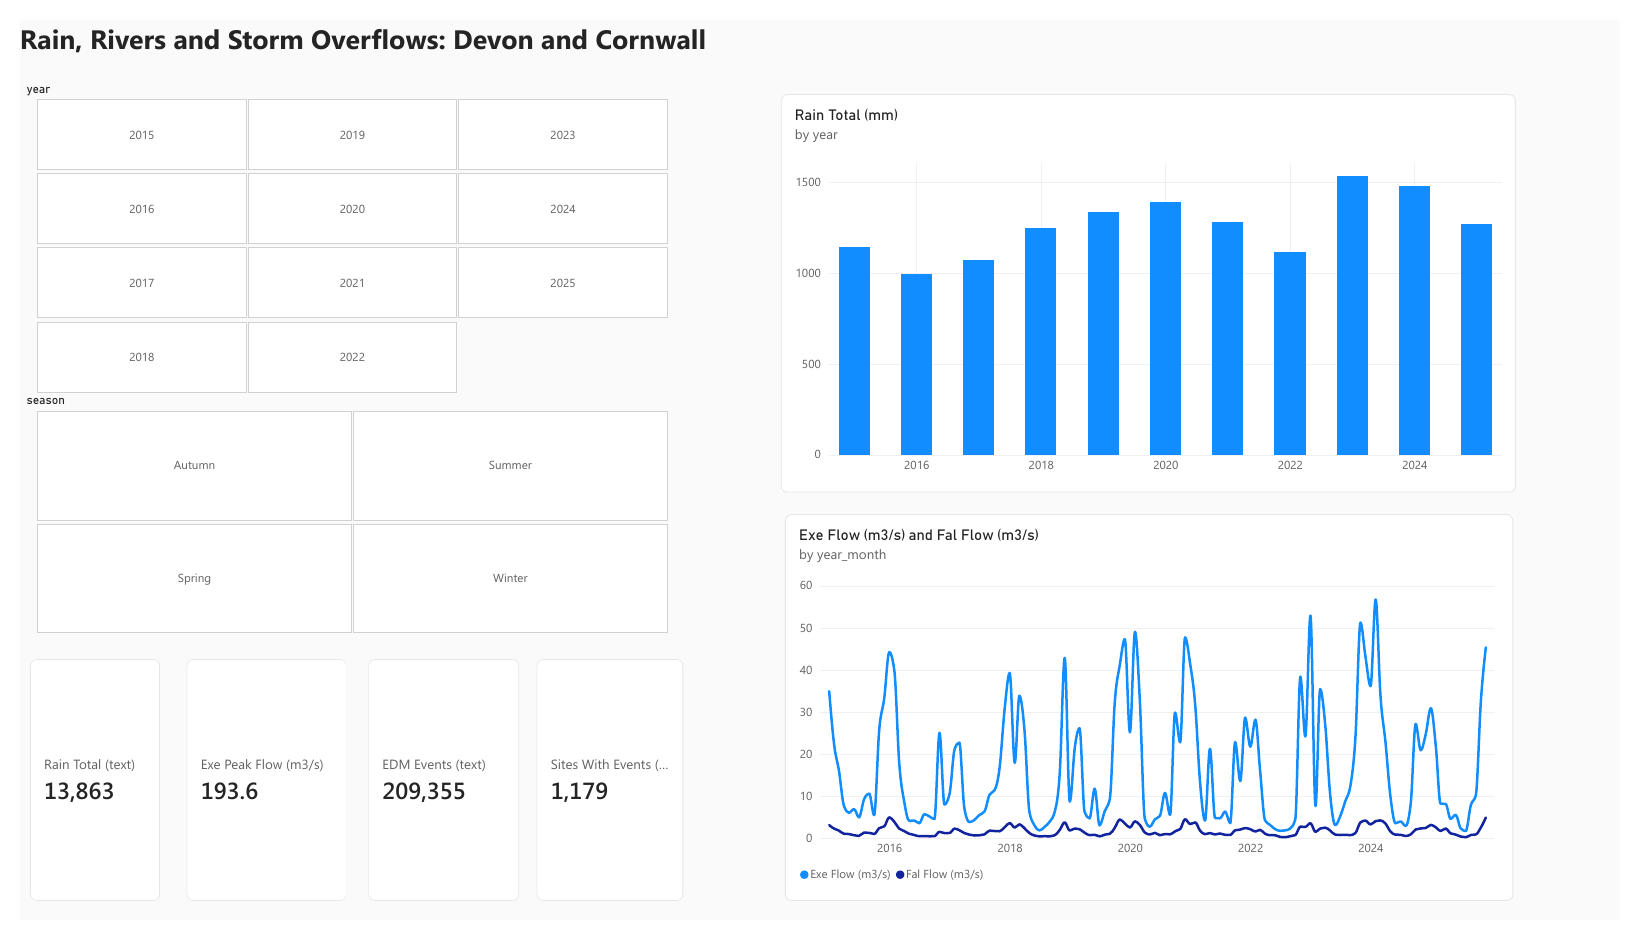

The dashboard page shown, as its layout file describes it:
{"tool":"powerbi","page":{"name":"Overview","canvas":[1920,1080],"ordinal":0},"visuals":[{"type":"clusteredColumnChart","fields":{"Category":["dim_date.year"],"Y":["_Measures.Rain Total (mm)"]},"box":[912.9,89.1,882.1,477.9],"z":0},{"type":"slicer","fields":{"Values":["dim_date.year"]},"box":[0,75.4,796.4,373.4],"z":1000},{"type":"slicer","fields":{"Values":["dim_date.season"]},"box":[0,448.7,796.4,289.5],"z":2000},{"type":"cardVisual","fields":{"Data":["_Measures.Rain Total (text)"]},"box":[12,767.3,155.9,289.5],"z":3000},{"type":"cardVisual","fields":{"Data":["_Measures.Exe Peak Flow (m3/s)"]},"box":[200.4,767.3,191.8,289.5],"z":4000},{"type":"cardVisual","fields":{"Data":["_Measures.EDM Events (text)"]},"box":[417.9,767.3,181.6,289.5],"z":5000},{"type":"cardVisual","fields":{"Data":["_Measures.Sites With Events (text)"]},"box":[620,767.3,176.4,289.5],"z":6000},{"type":"lineChart","fields":{"Category":["dim_date.year_month"],"Y":["_Measures.Exe Flow (m3/s)","_Measures.Fal Flow (m3/s)"]},"box":[918,592.6,873.5,464.2],"z":7000},{"type":"textbox","box":[0,0,947.3,76],"z":8000}]}

Visuals, with their boxes in screenshot pixels (x1, y1, x2, y2), scaled from the page's 1920x1080 canvas onto the 1640x940 screenshot:
clusteredColumnChart - dim_date.year x _Measures.Rain Total (mm): region(780, 78, 1533, 494)
slicer - dim_date.year: region(0, 66, 680, 391)
slicer - dim_date.season: region(0, 391, 680, 643)
cardVisual - _Measures.Rain Total (text): region(10, 668, 143, 920)
cardVisual - _Measures.Exe Peak Flow (m3/s): region(171, 668, 335, 920)
cardVisual - _Measures.EDM Events (text): region(357, 668, 512, 920)
cardVisual - _Measures.Sites With Events (text): region(530, 668, 680, 920)
lineChart - dim_date.year_month x _Measures.Exe Flow (m3/s): region(784, 516, 1530, 920)
textbox: region(0, 0, 809, 66)
